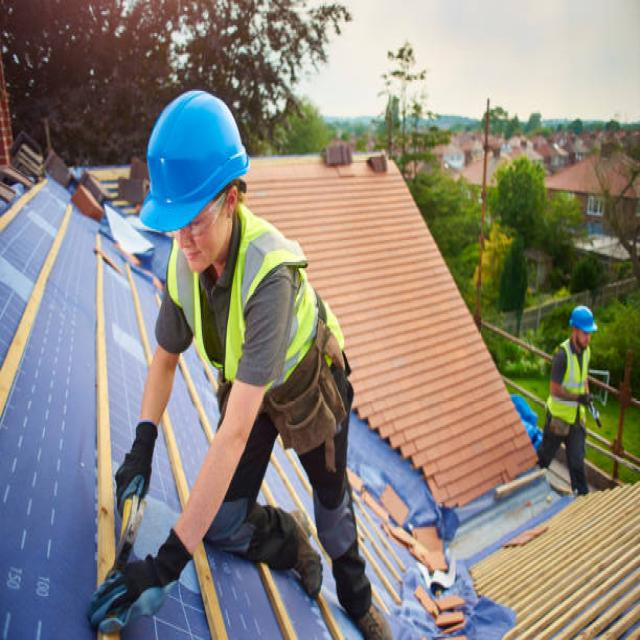gloves: (85, 526, 191, 636), (114, 419, 159, 513)
